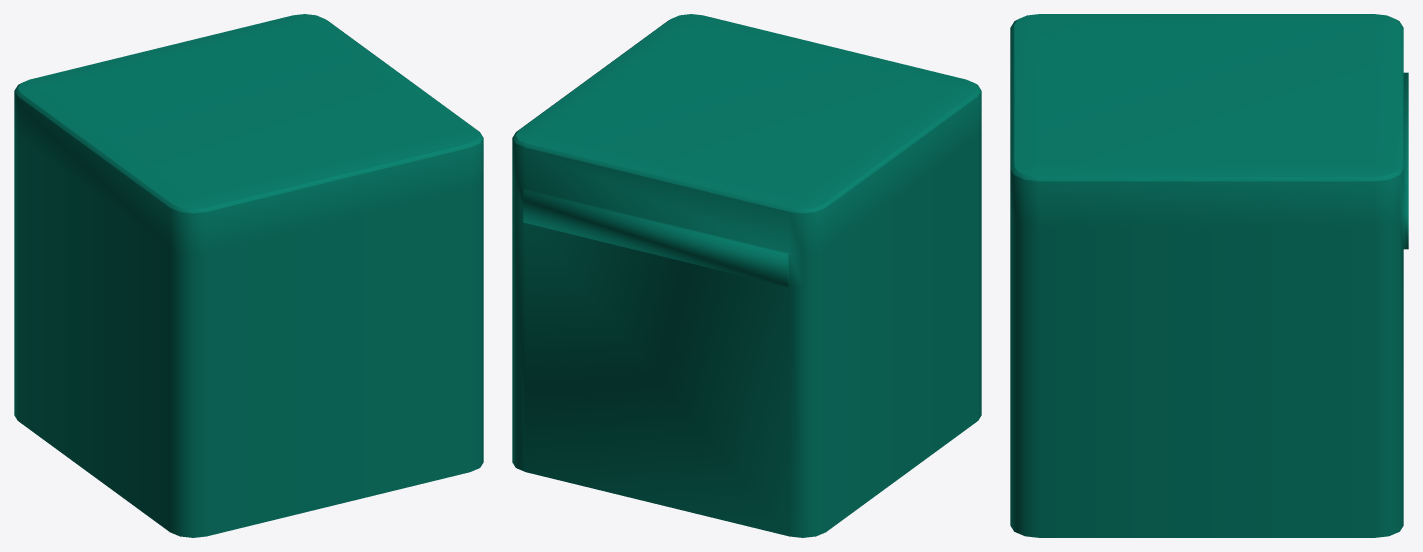
The model's file is bit-kuutio.fbx.
The picture shows the model from 3 angles, left to right: view 1: azimuth 30°, elevation 25°; view 2: azimuth 150°, elevation 25°; view 3: azimuth 270°, elevation 25°; orthographic projection. The views are drawn at different scales.
Visible parts, largest first — view 1: 341_bottom, 341IK_upholstered_seat; view 2: 341_bottom, 341IK_upholstered_seat; view 3: 341_bottom, 341IK_upholstered_seat.
Part boxes in pixels (left/top/right/bottom): 341_bottom: left=14, top=20, right=483, bottom=537; 341IK_upholstered_seat: left=18, top=14, right=479, bottom=209; 341_bottom: left=512, top=20, right=981, bottom=537; 341IK_upholstered_seat: left=516, top=14, right=977, bottom=209; 341_bottom: left=1010, top=19, right=1408, bottom=537; 341IK_upholstered_seat: left=1014, top=14, right=1399, bottom=176.
Bounding box in the file's own units: 400 × 405 × 405.
